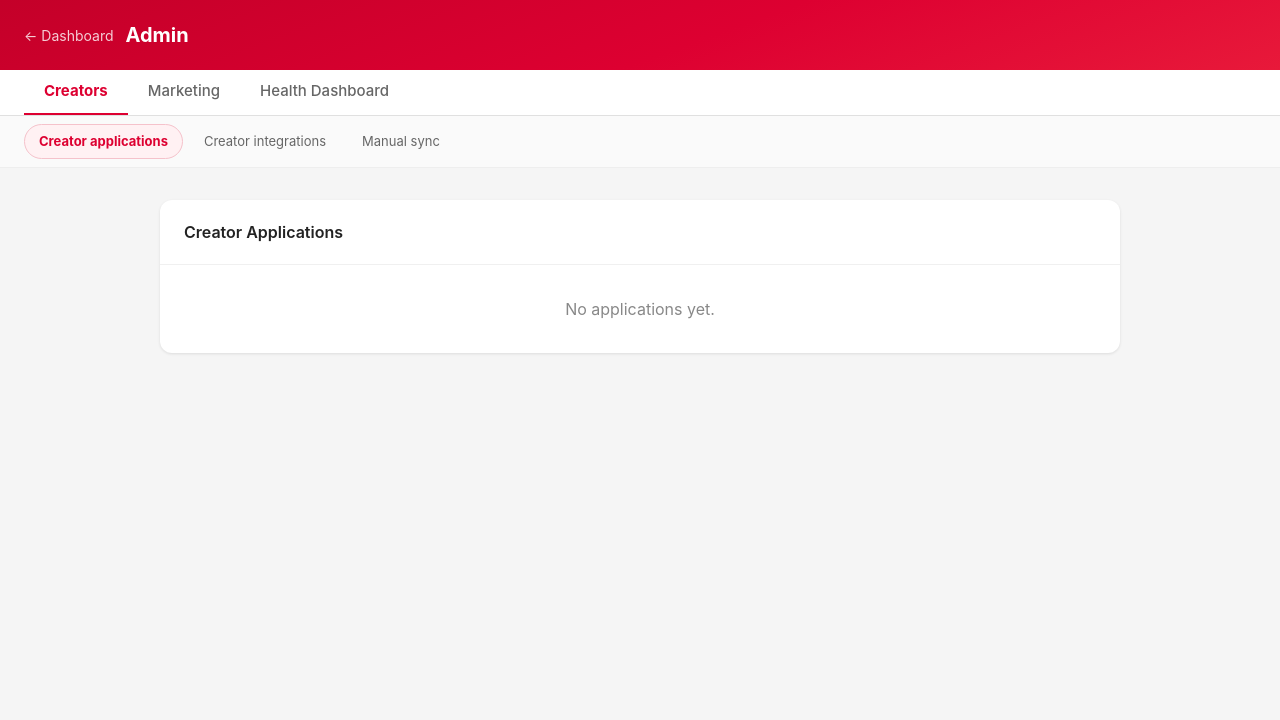
Test: admin Sources tab — why a creator is not being polled › shows the reason the import was paused, and when
The width and height of the screenshot is (1280, 720).
Click the button "Creator integrations": click(265, 141) [189,124,341,159]
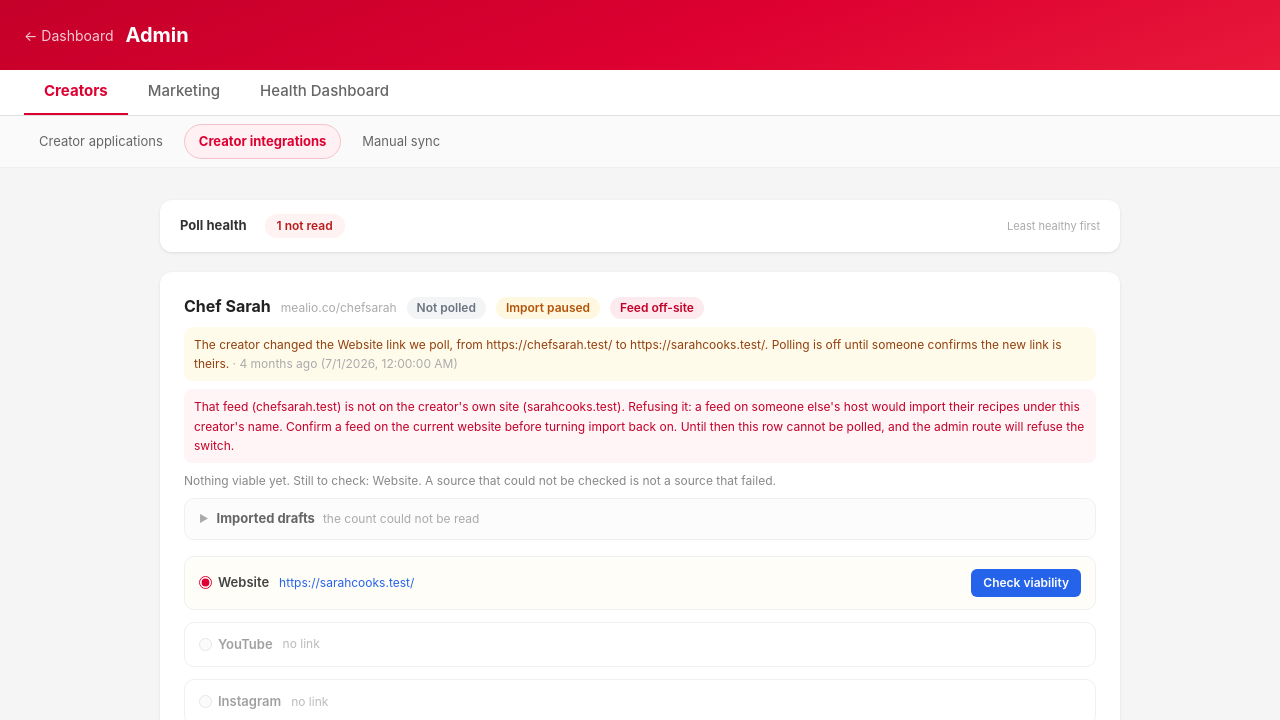
Now the element with test id "source-health-paused" shows "changed the Website link we poll", box [194,337,1062,371]
Now the element with test id "source-health-paused" shows "https://chefsarah.test/", box [194,337,1062,371]
Now the element with test id "source-health-paused" shows "2026", box [325,356,454,371]
